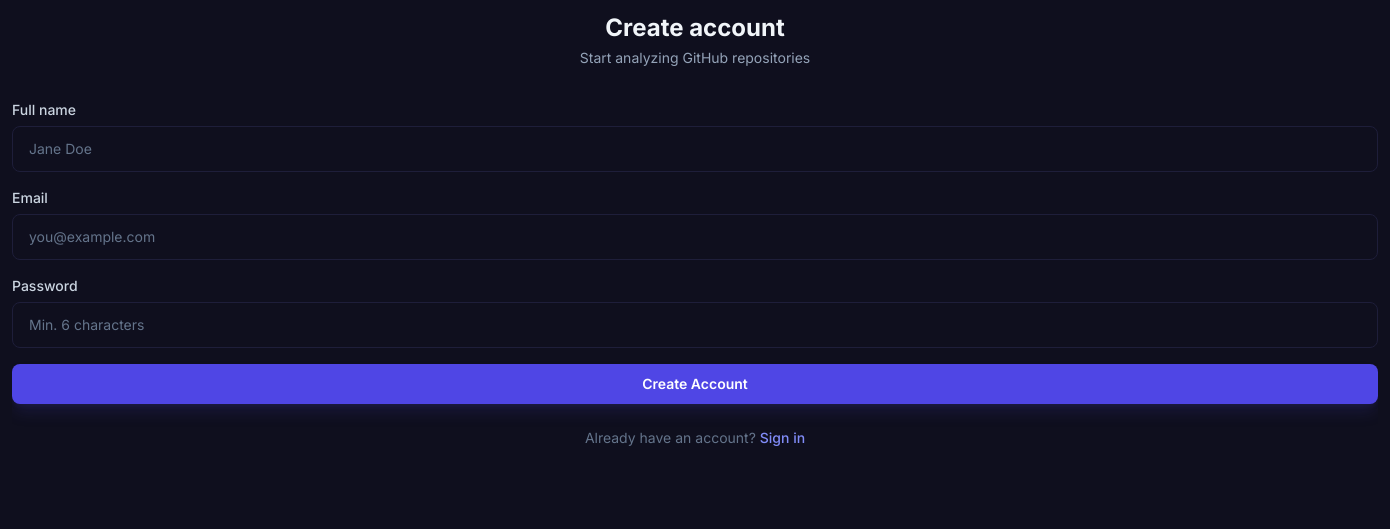
RegisterPage — error handling › shows validation error from errors array when available
Type "Bob" into the field labelled "Full name" at (695, 149), box [12,126,1378,172]
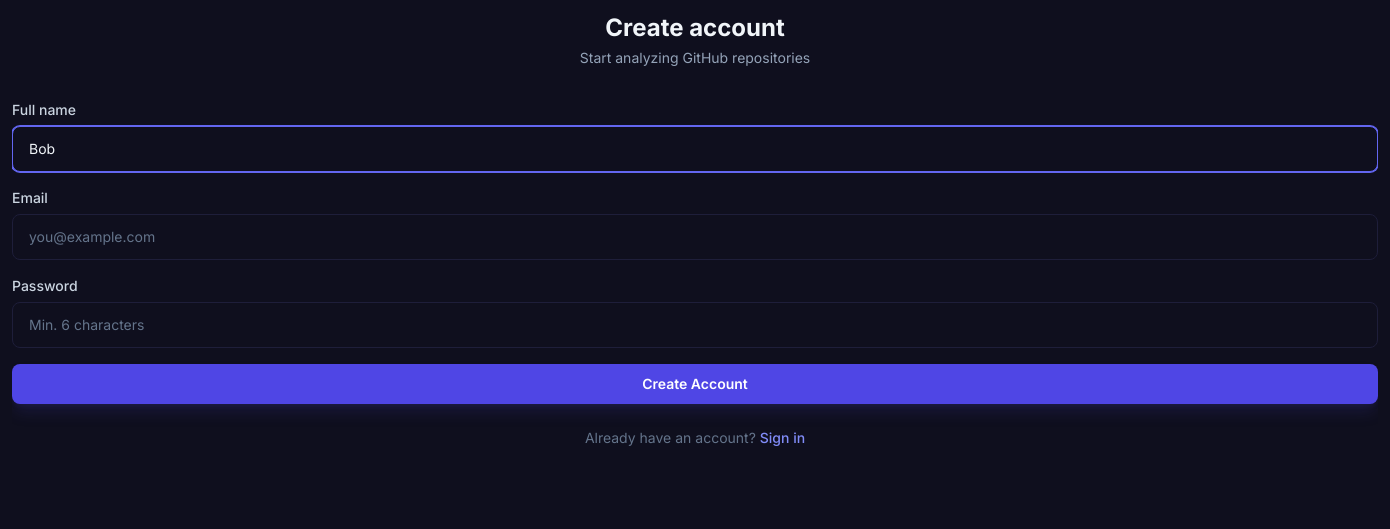
Type "b@b.com" into the field labelled "Email" at (695, 237), box [12,214,1378,260]
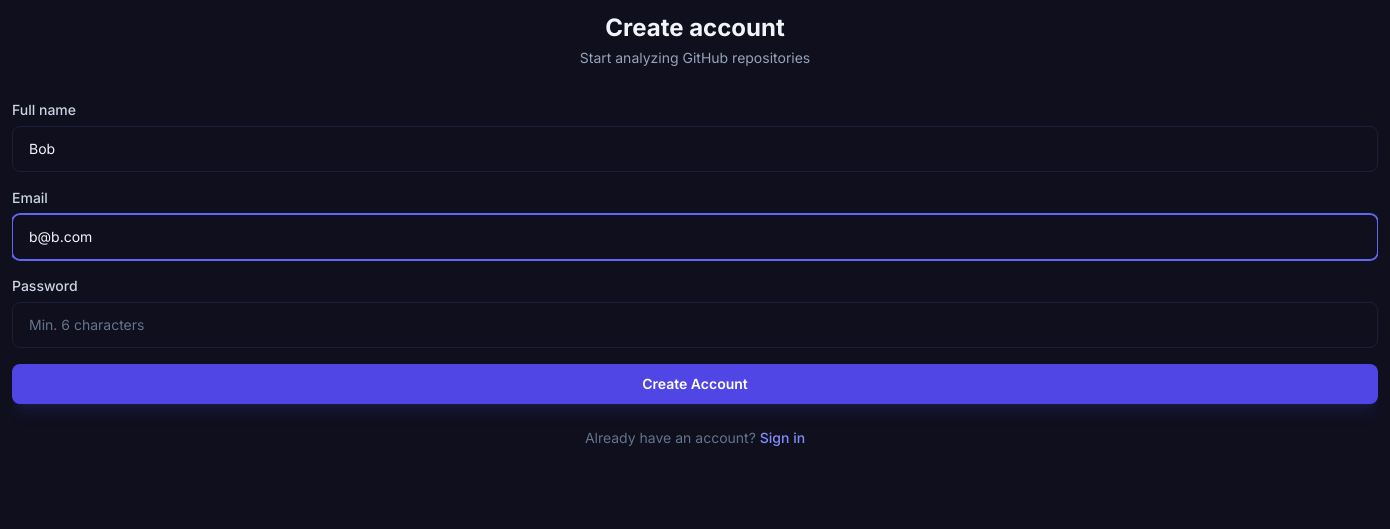
Type "ab" into the password field labelled "Password" at (695, 325), box [12,302,1378,348]
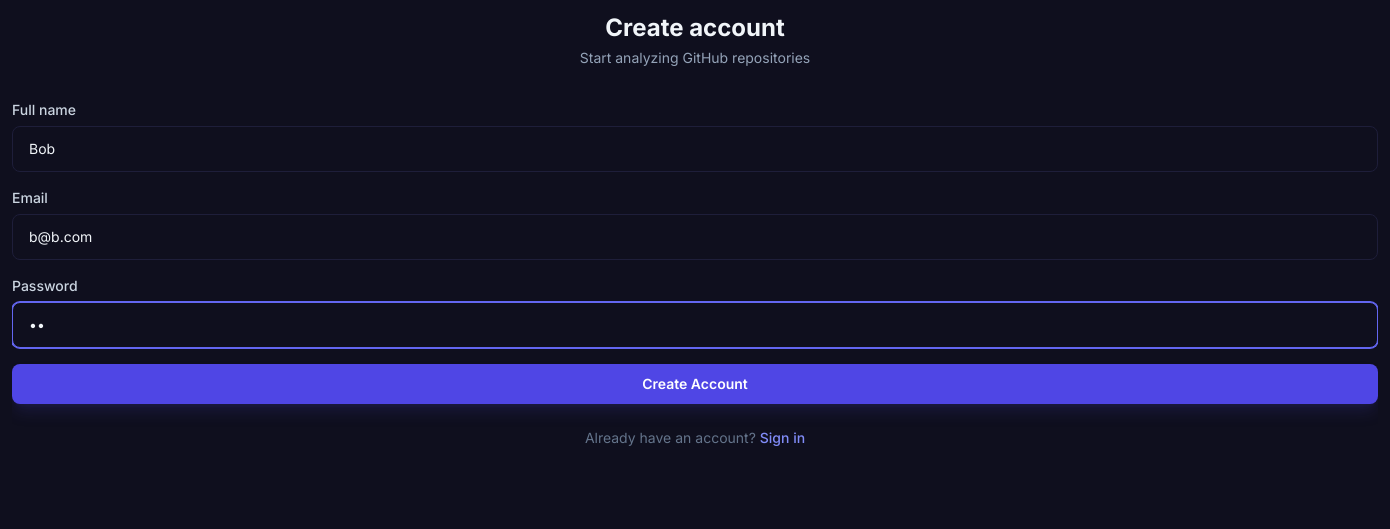
Click the button "Create Account" at (695, 384), box [12,364,1378,404]
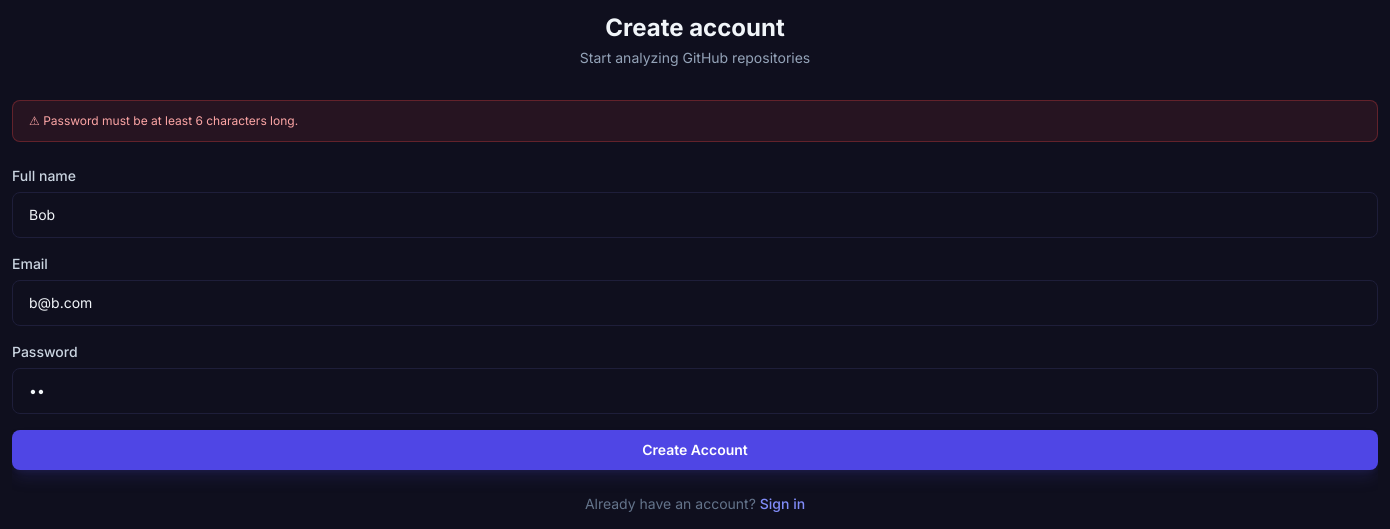
Check: the text "⚠ Password must be at least 6 characters long." is shown, box [12,100,1378,142]
